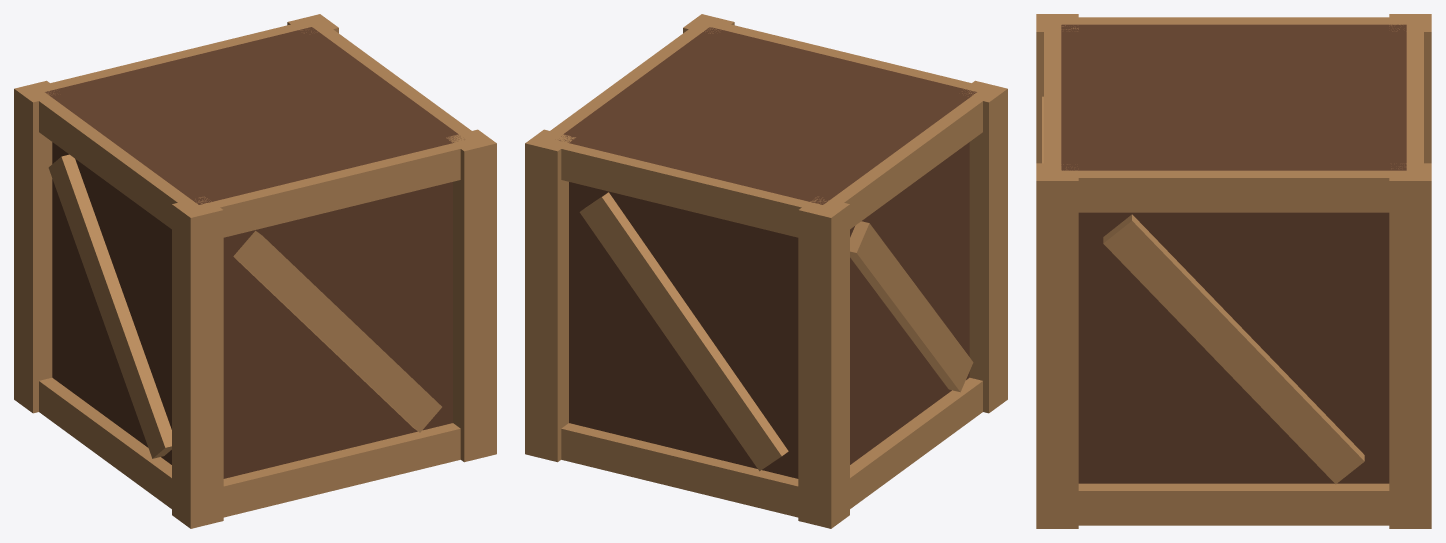
Rendered from crate.glb.
3 views of the same model, side by side, from view 1: azimuth 30°, elevation 25°; view 2: azimuth 150°, elevation 25°; view 3: azimuth 270°, elevation 25° (orthographic). The views are drawn at different scales.
Visible parts, largest first — view 1: Body; view 2: Body; view 3: Body.
Part boxes in pixels (x1,y1,x2,y2): Body: (14, 14, 496, 528); Body: (525, 14, 1007, 528); Body: (1036, 14, 1431, 528).
Size of the model in its own units: 1.03 by 1 by 1.03.
